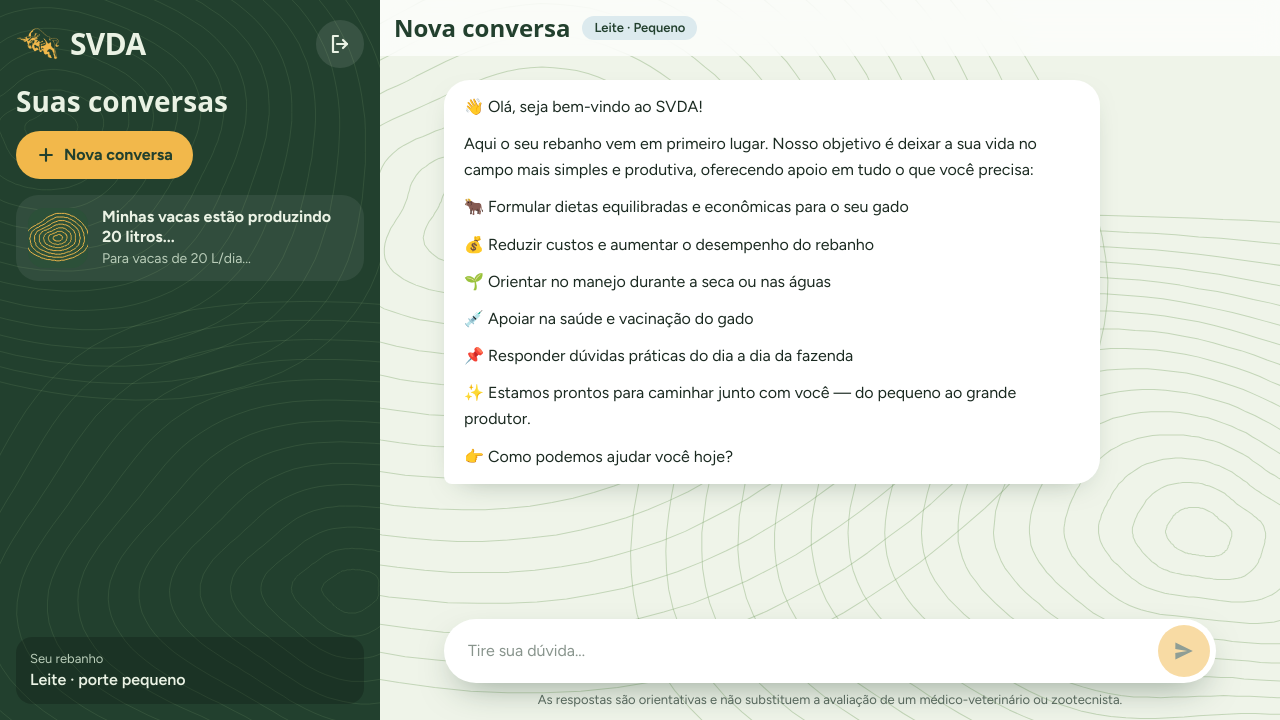
Test: chatting › sends a message, shows the answer and keeps the conversation after the URL changes
Type "Como alimentar na seca?" into the field labelled "sua dúvida" at [801, 651], box [452,627,1150,675]
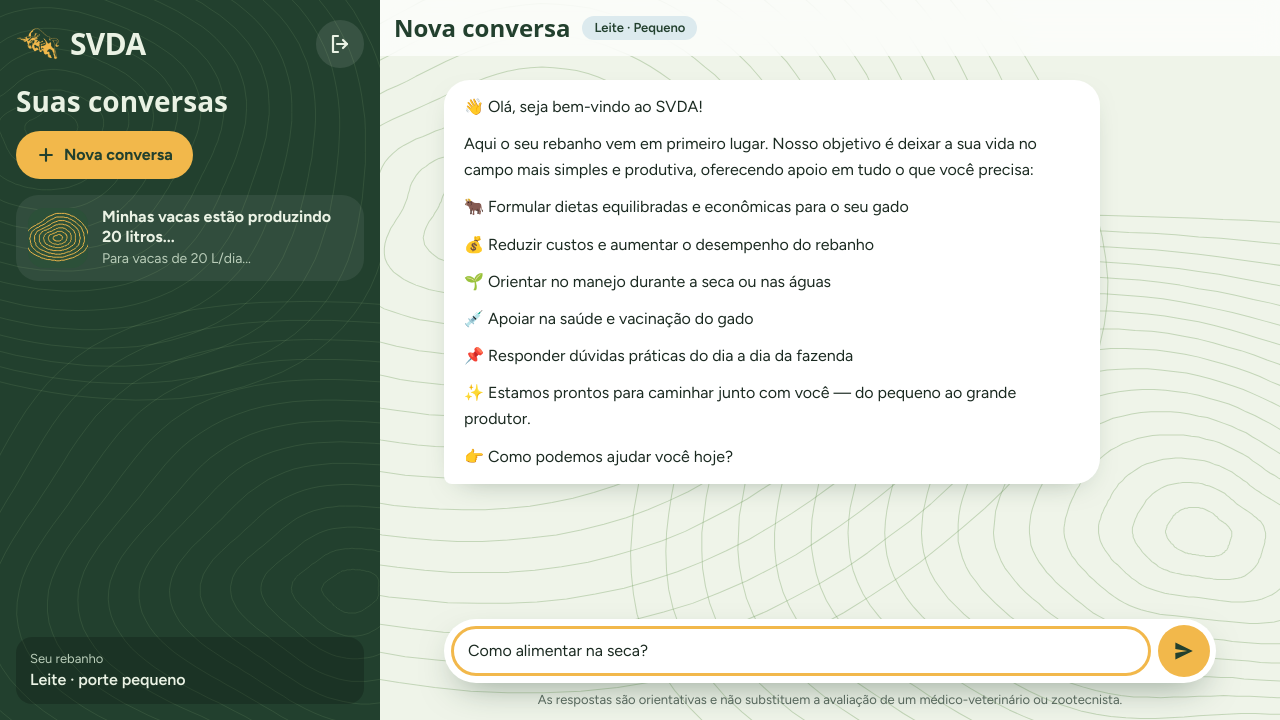
Click the button named "Enviar" at [1184, 651], box [1158,625,1210,677]
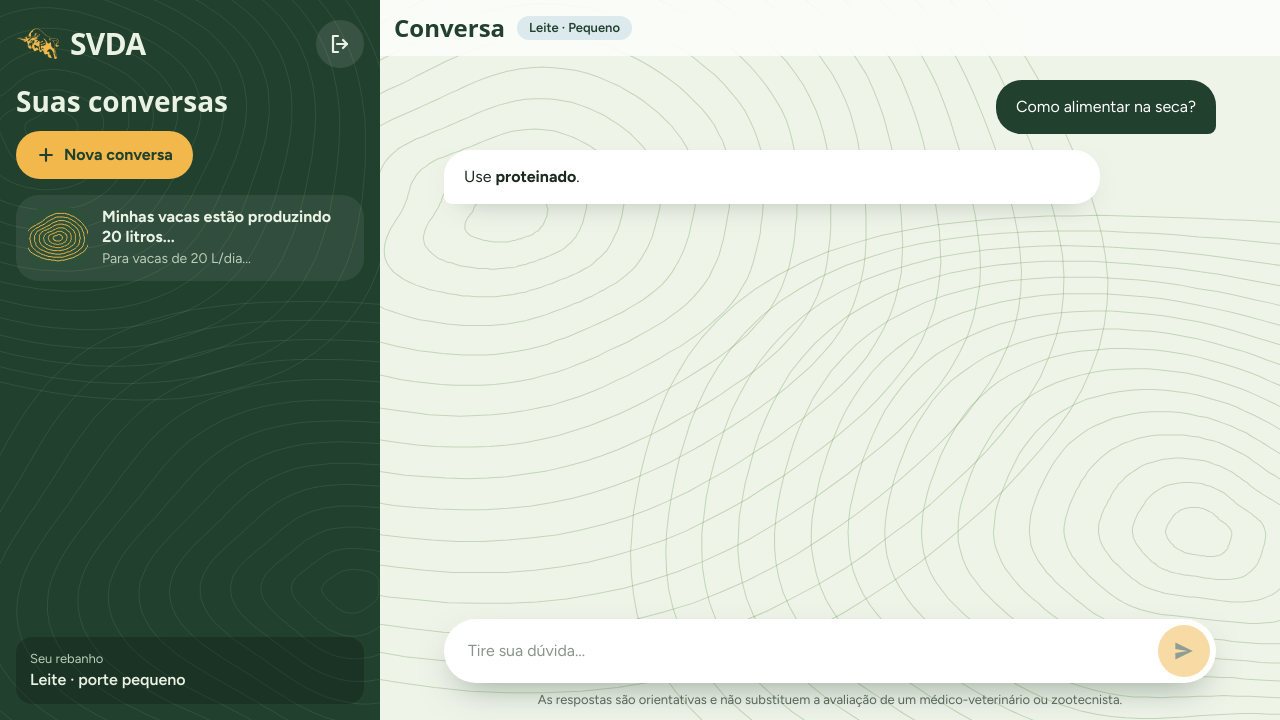
Expected: the text "proteinado" is shown, [496,167,576,186]
Expected: the text "seja bem-vindo ao SVDA" is gone
Expected: the text "Como alimentar na seca?" is shown, [996,80,1216,134]
